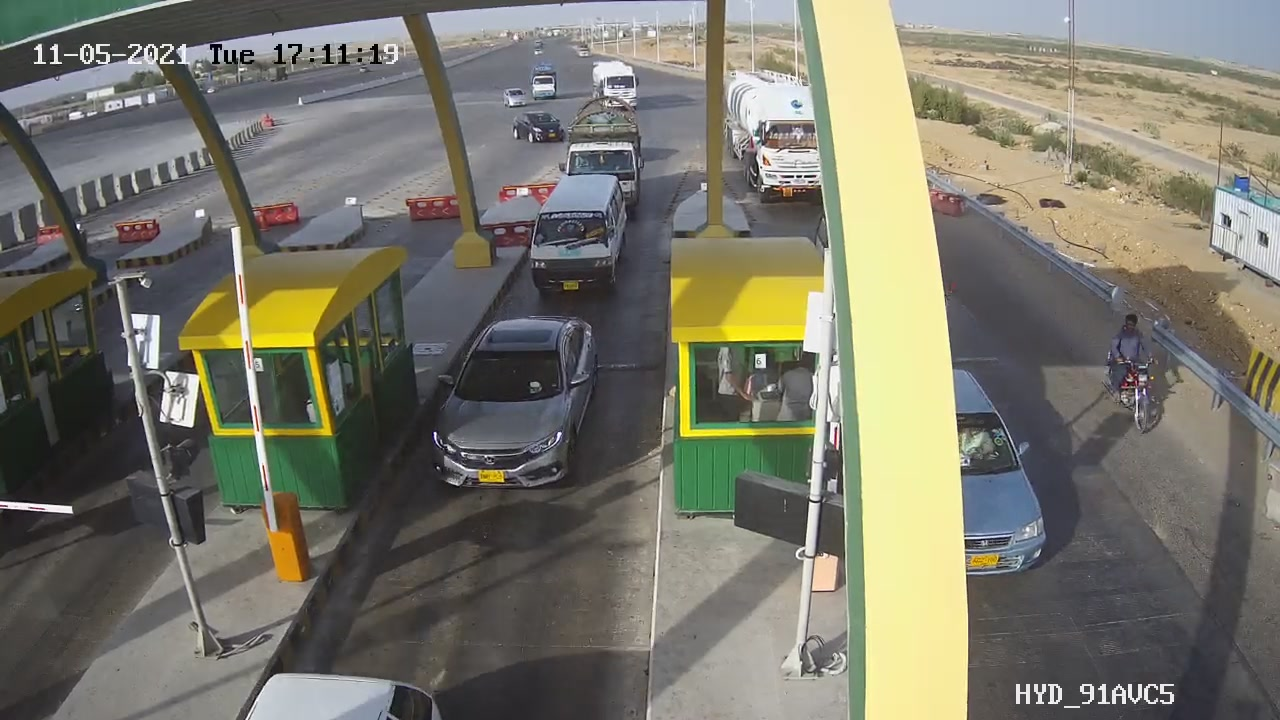F1: (412, 303, 609, 508)
